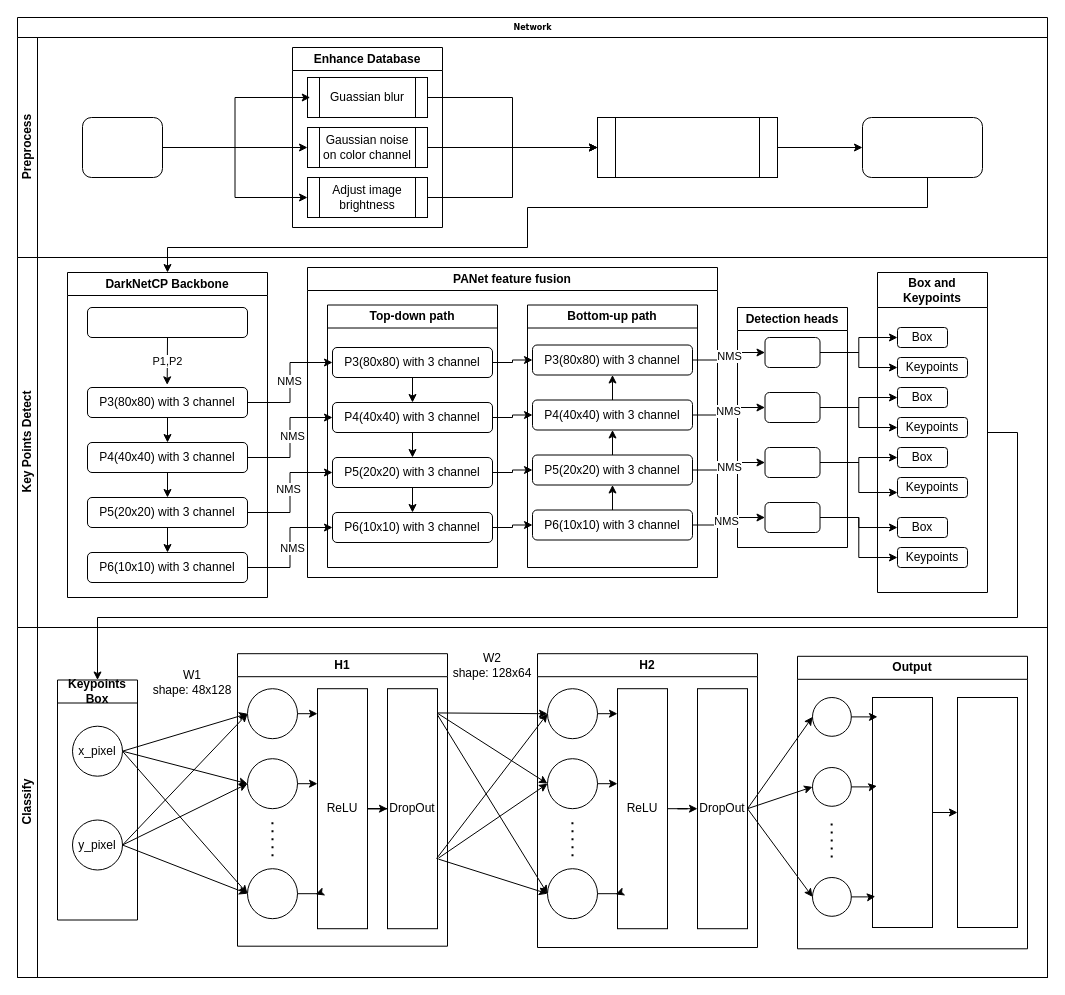
Image size: 1065x995. Some labels were removed from this diagram. Each missing label, with the centre of its shape:
Cross Entropy Error: (x=987, y=812)
head1: (x=792, y=517)
head2: (x=792, y=462)
head3: (x=792, y=407)
head4: (x=792, y=352)
Kalman Filter Keypoints: (x=687, y=147)
Labeled Image: (x=122, y=147)
P0(640x640) with 3 channel: (x=167, y=322)
softmax: (x=902, y=812)
Temporally consecutive images: (x=922, y=147)
